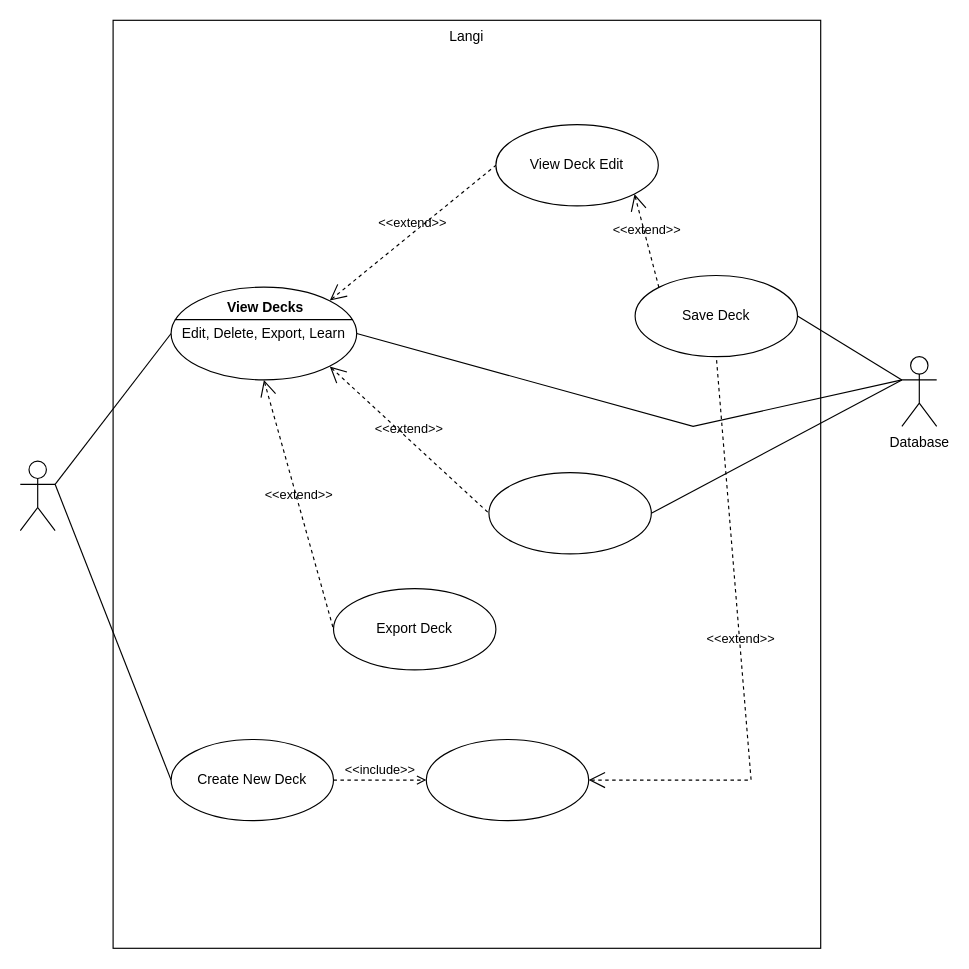
Image size: 969x969. Some labels were removed from this diagram. The box of each missing label's shape, as (x1, y1, x2, y2) in pixels:
Delete Deck: (488, 472, 651, 554)
User: (19, 460, 55, 531)
View Blank Deck: (425, 738, 589, 821)
